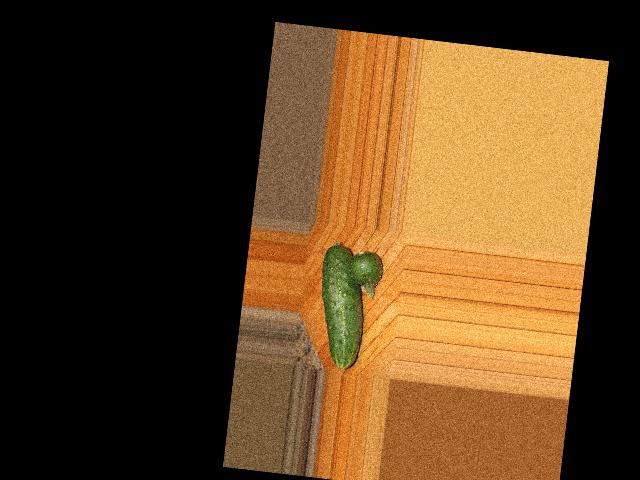cucumber: (311, 243, 372, 371)
